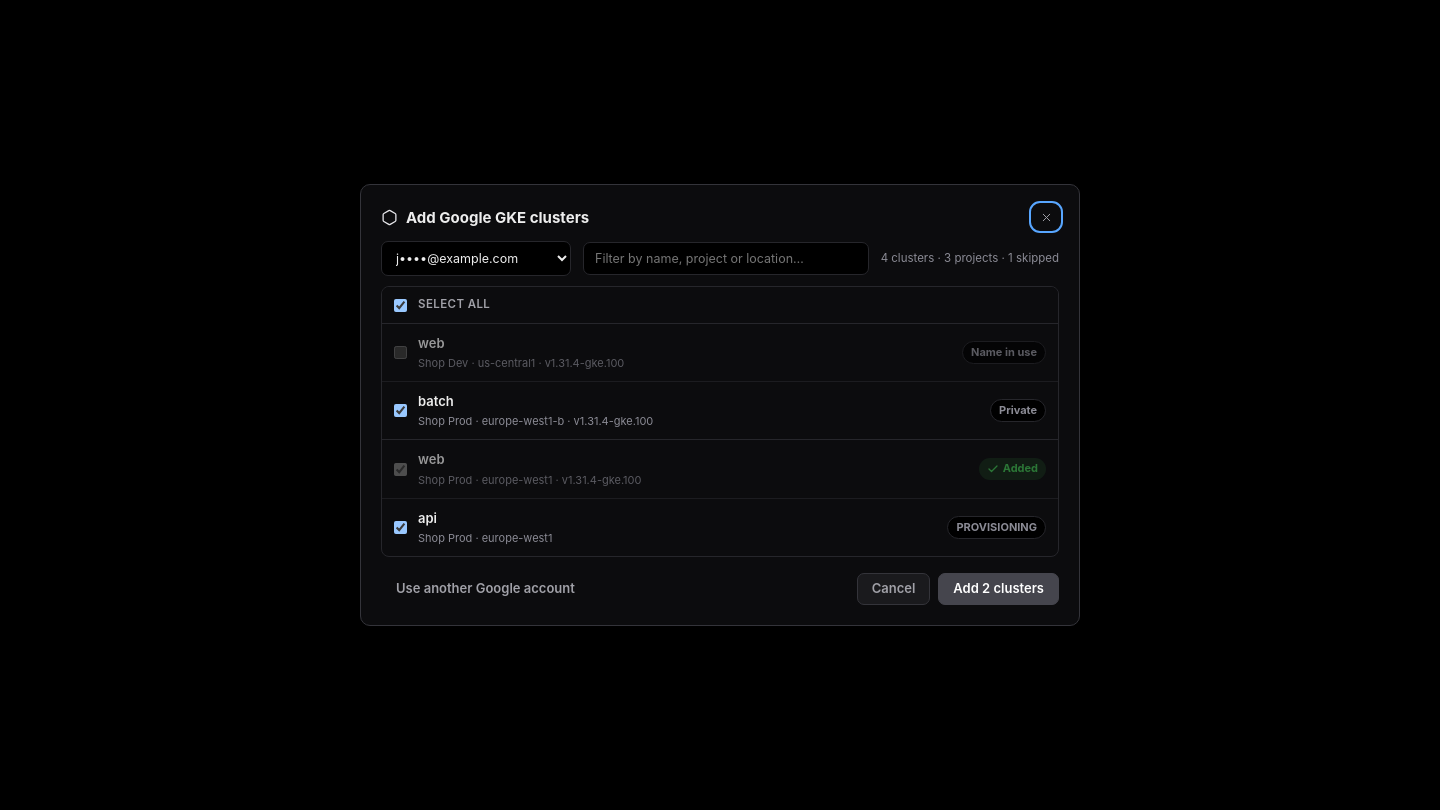
Test case: GkeIntegration › lists every project's clusters; adds only the chosen ones, by name (no endpoint leaves the server)
Expected: the text "4 clusters · 3 projects · 1 skipped" is shown, [881,250,1059,268]
Expected: the label named "web in Shop Prod" shows "Added", [1003,462,1038,476]
What coordinates should you click on to do the following:
click the checkbox named "api in Shop Prod"
I would click on:
 (400, 527)
Its box is [394,521,407,534].
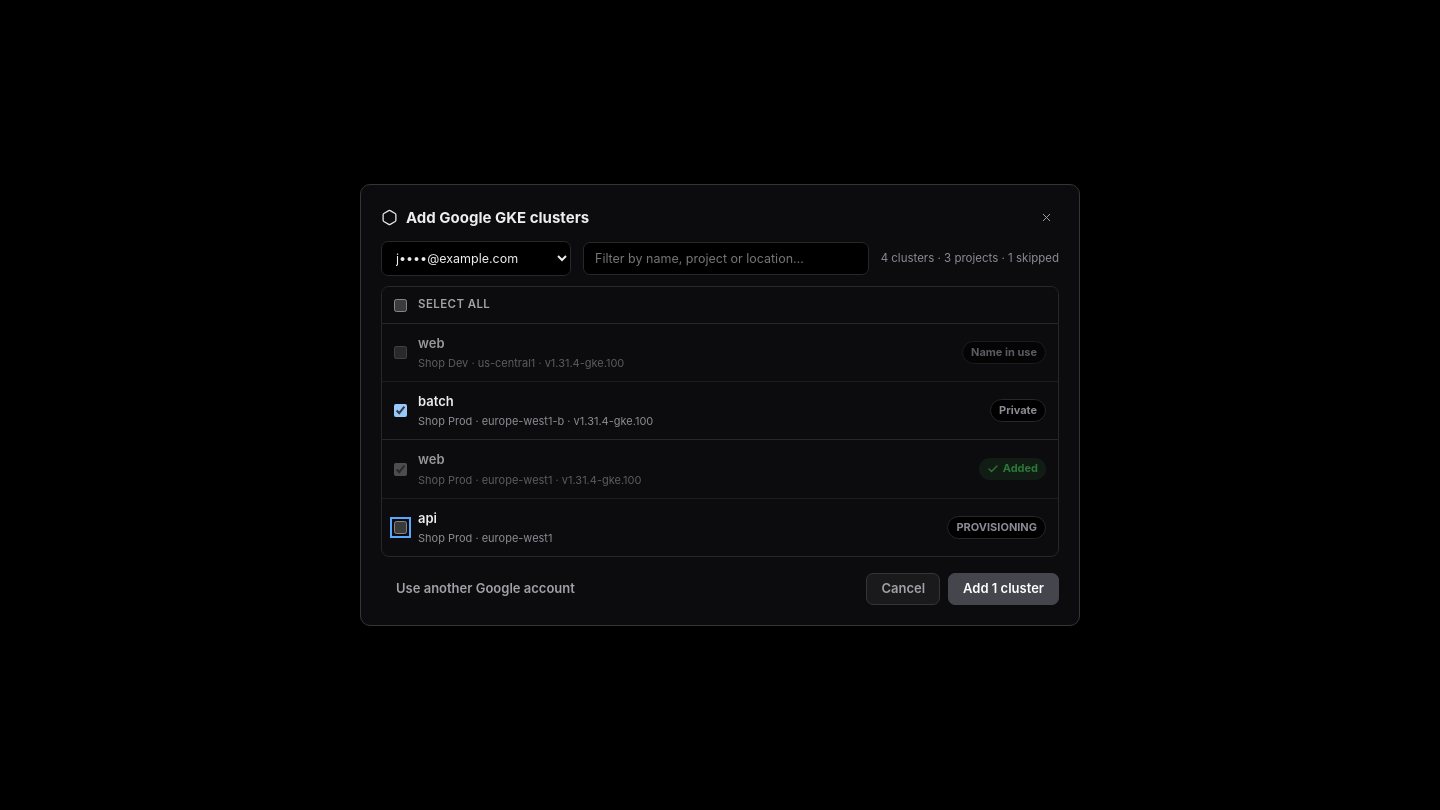
What coordinates should you click on to do the following:
click the button "Add 1 cluster"
I would click on:
 (1004, 589)
Its box is [948,573,1059,605].
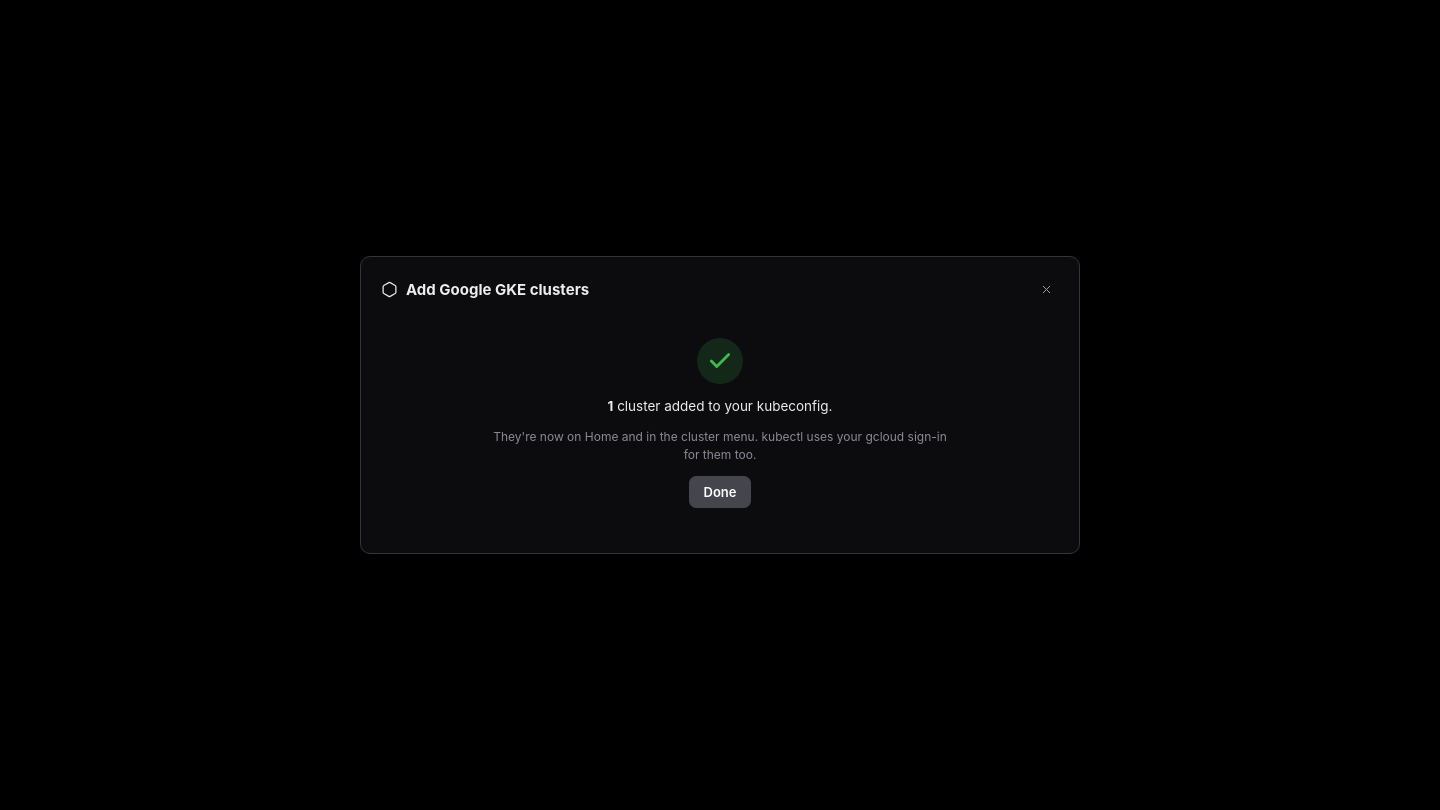
Now the message shows "1 cluster added to your kubeconfig.", box [493,338,947,508]
